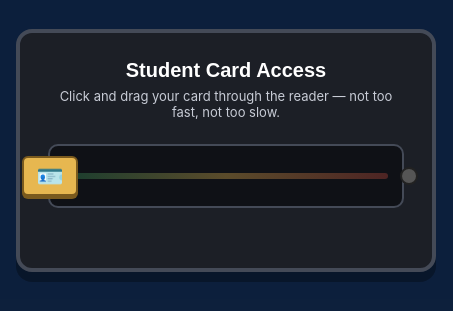
Scenario: Closing Scene - card swipe mini-game › rejects a swipe that is too fast and prompts the player to retry
Press the mouse on the text "🪪" at (50, 176), box [22, 156, 78, 196]
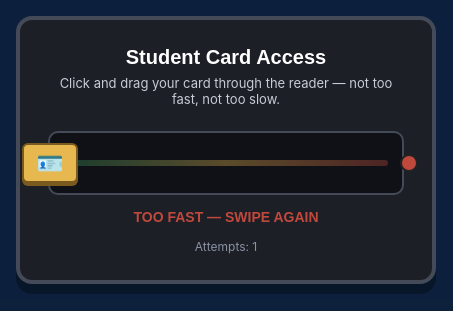
Expected: the text "TOO FAST — SWIPE AGAIN" is shown, [133, 209, 318, 225]
